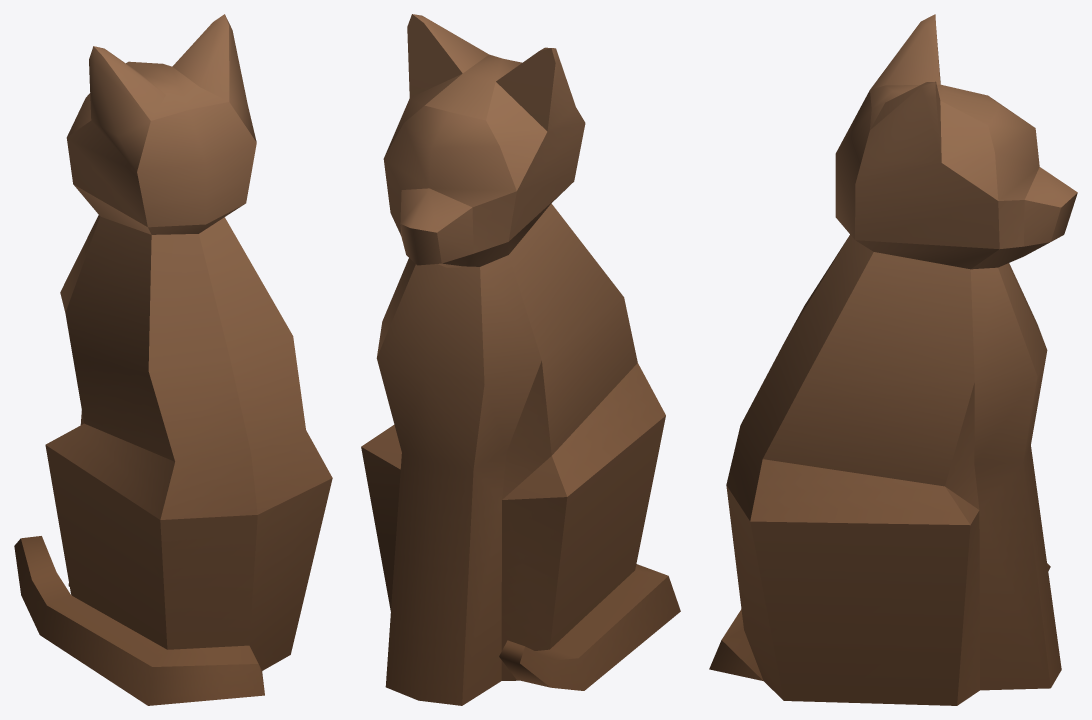
Rendered from Catfigurine_Wood.fbx.
3 renders of one model, left to right at view 1: azimuth 30°, elevation 25°; view 2: azimuth 150°, elevation 25°; view 3: azimuth 270°, elevation 25°, orthographic. The views are drawn at different scales.
Visible parts, largest first — view 1: Catfigurine_Wood; view 2: Catfigurine_Wood; view 3: Catfigurine_Wood.
Part boxes in pixels (bbox=[...]): Catfigurine_Wood: bbox=[14, 14, 332, 705]; Catfigurine_Wood: bbox=[361, 14, 680, 705]; Catfigurine_Wood: bbox=[709, 14, 1077, 705].
Size of the model in its own units: 7.68 by 21.01 by 11.3.
